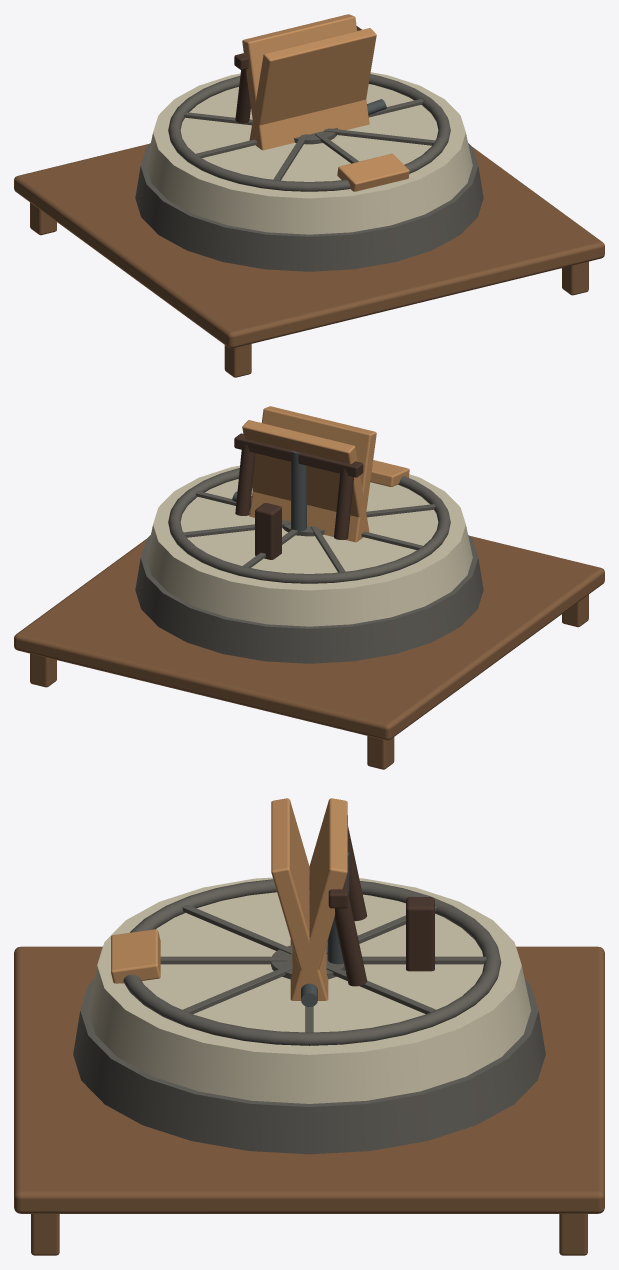
The model's file is detail_millstone.glb.
3 views of the same model, one above another, from view 1: azimuth 30°, elevation 25°; view 2: azimuth 150°, elevation 25°; view 3: azimuth 270°, elevation 25° (orthographic). The views are drawn at different scales.
Visible parts, largest first — view 1: wood, stone; view 2: wood, stone; view 3: stone, wood.
Boxes of the visible parts, x1,y1,x2,y2 form: wood: (14, 14, 604, 377); stone: (135, 72, 483, 271); wood: (14, 406, 604, 769); stone: (135, 450, 483, 663); stone: (73, 852, 545, 1154); wood: (14, 798, 604, 1255).
Bounding box in the file's own units: 2.8 × 1.6 × 2.8.
